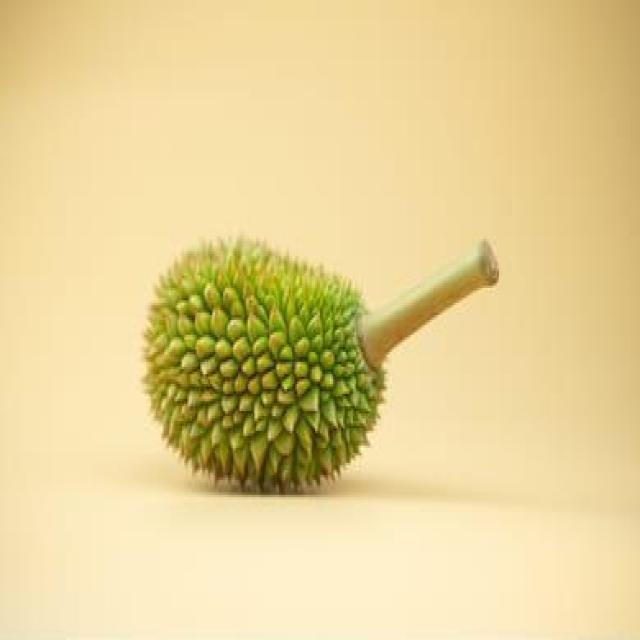immature: (140, 233, 390, 499)
